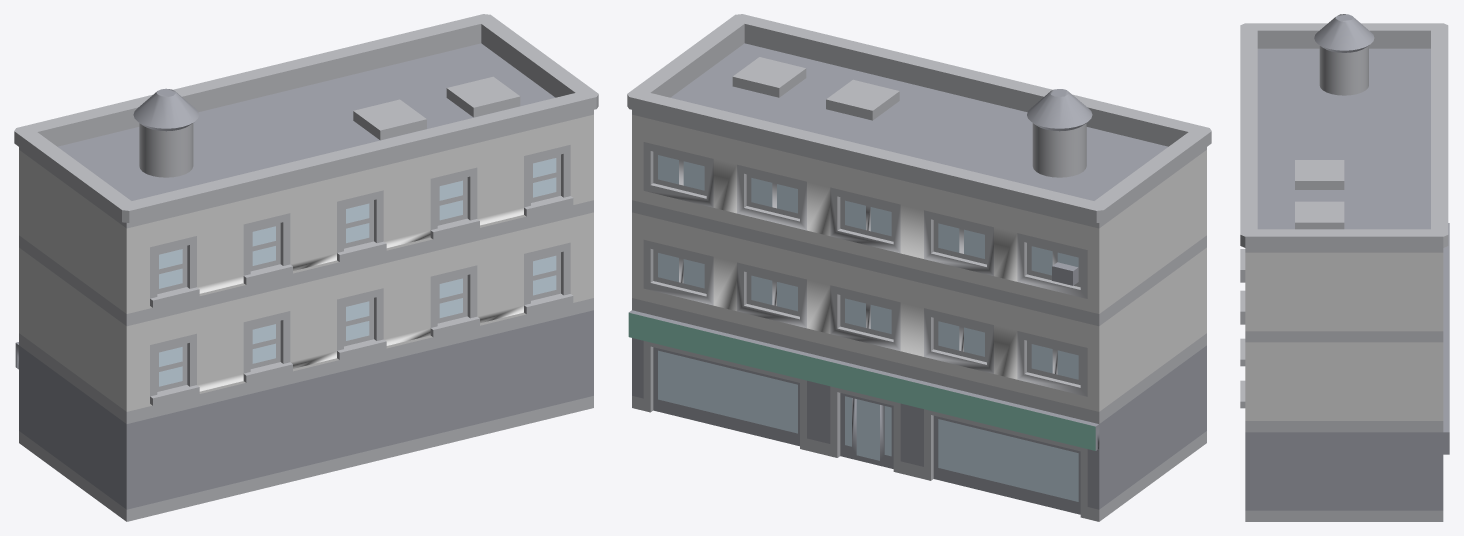
File: largef.fbx
3 renders of one model, left to right at view 1: azimuth 30°, elevation 25°; view 2: azimuth 150°, elevation 25°; view 3: azimuth 270°, elevation 25°, orthographic. The views are drawn at different scales.
Visible parts, largest first — view 1: large_buildingF; view 2: large_buildingF; view 3: large_buildingF.
Part boxes in pixels (<box>): large_buildingF: <box>14,14,598,521</box>; large_buildingF: <box>627,14,1211,521</box>; large_buildingF: <box>1240,14,1449,521</box>.
Bounding box in the file's own units: 408 × 300 × 169.
